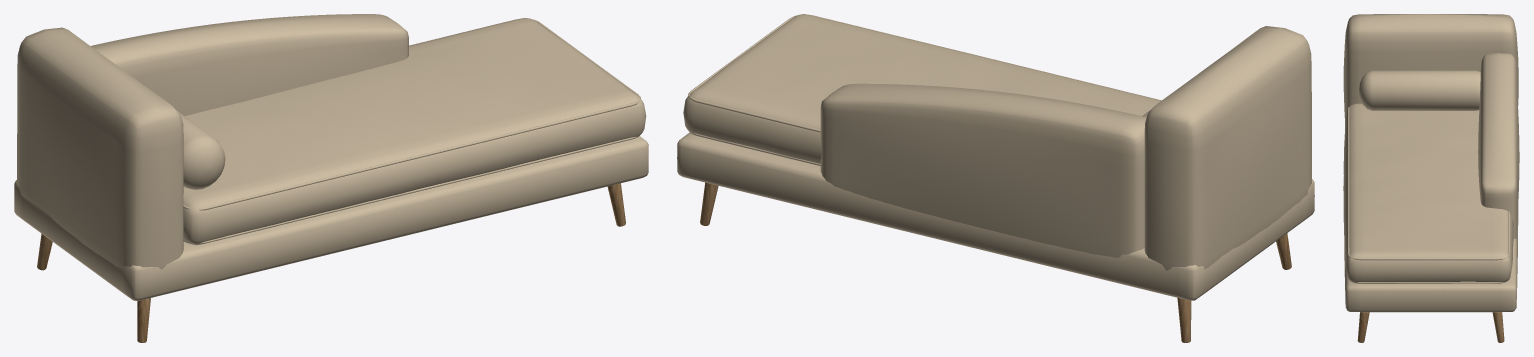
Rendered from meridiana_izquierda.glb.
3 views of the same model, side by side, from view 1: azimuth 30°, elevation 25°; view 2: azimuth 150°, elevation 25°; view 3: azimuth 270°, elevation 25° (orthographic). The views are drawn at different scales.
Parts seen in each view (by area): view 1: meridiana_izquierda; view 2: meridiana_izquierda; view 3: meridiana_izquierda.
Boxes of the visible parts, x1,y1,x2,y2 form: meridiana_izquierda: (14,14,648,342); meridiana_izquierda: (677,14,1314,342); meridiana_izquierda: (1343,14,1519,342).
Bounding box in the file's own units: 1.86 × 0.8212 × 0.7806.
2 materials, 2 textured.
